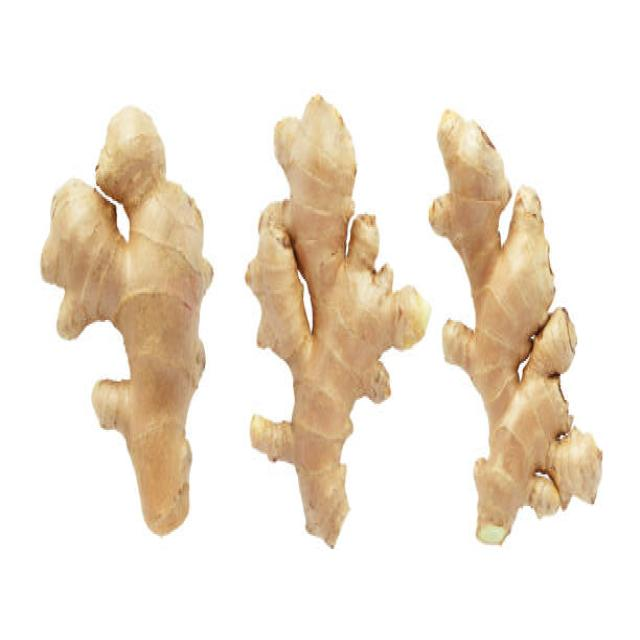ginger-root: (427, 90, 620, 620), (36, 71, 215, 597), (239, 82, 426, 582)
